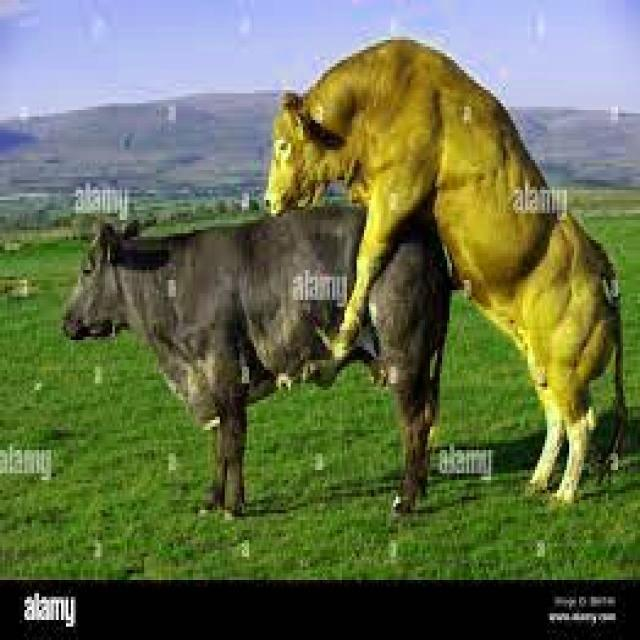cow: (270, 39, 615, 502), (65, 208, 365, 513), (350, 221, 451, 511)
